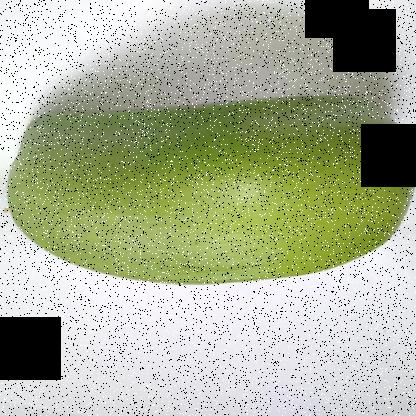freshunripe: (2, 62, 415, 299)
